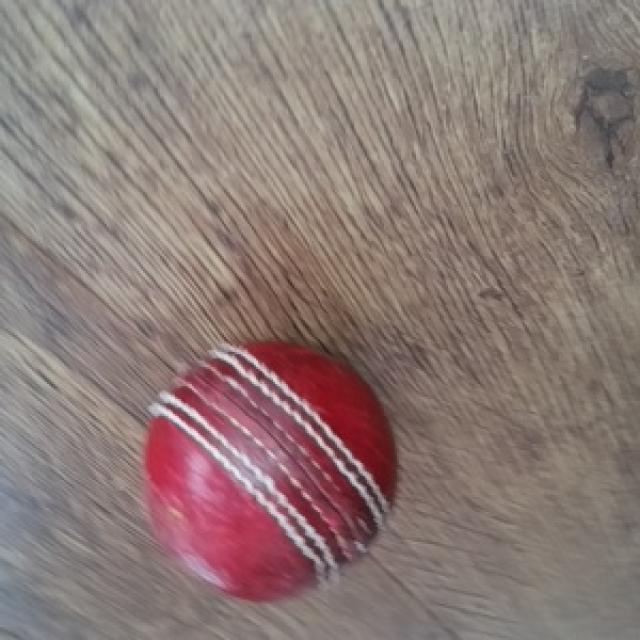ball: (139, 341, 399, 606)
